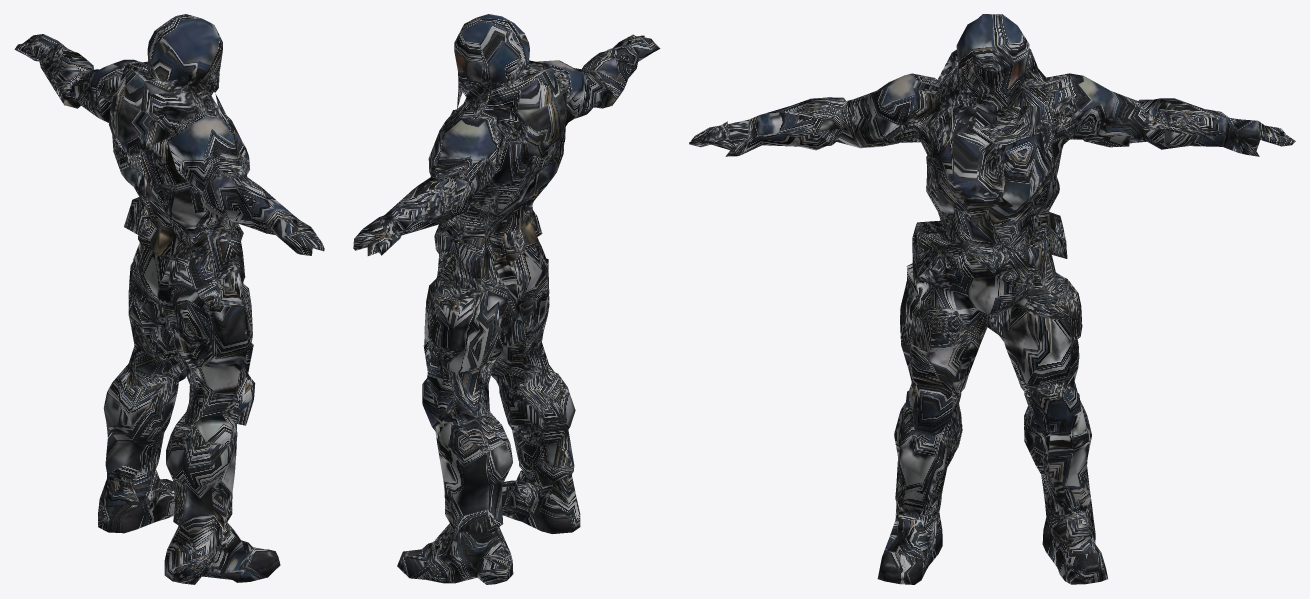
The model's file is keeper-footsoldier.glb.
The picture shows the model from 3 angles, left to right: view 1: azimuth 30°, elevation 25°; view 2: azimuth 150°, elevation 25°; view 3: azimuth 270°, elevation 25°; orthographic projection. The views are drawn at different scales.
Bounding box in the file's own units: 0.238 × 0.9984 × 0.9987.
Materials: 1 (1 with a texture image).
